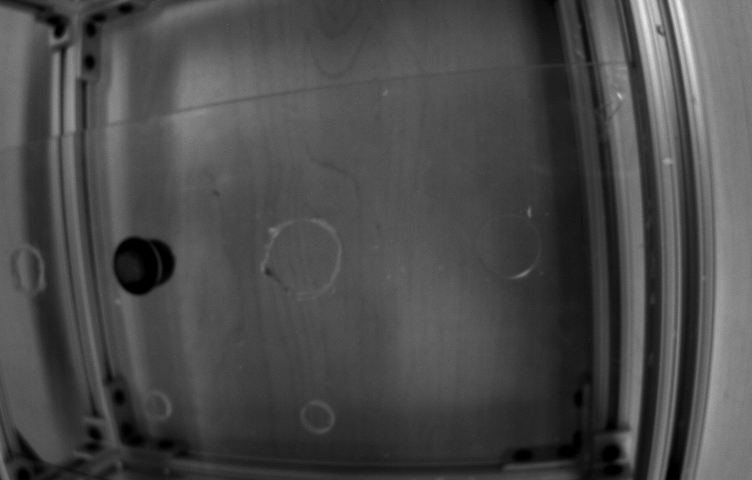small_red_button: (105, 221, 169, 303)
